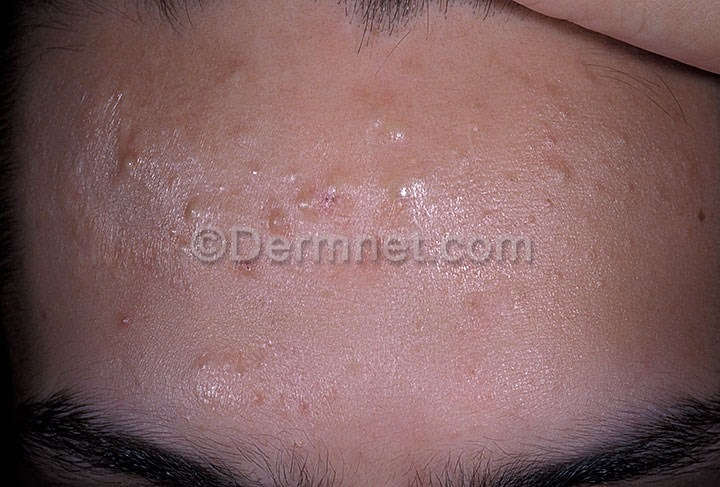Acne: (48, 73, 622, 343)
